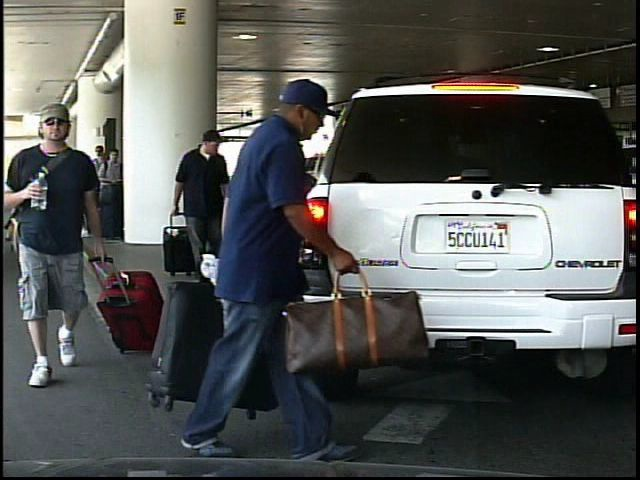person: (211, 72, 356, 463), (17, 99, 113, 388), (167, 129, 236, 277)
